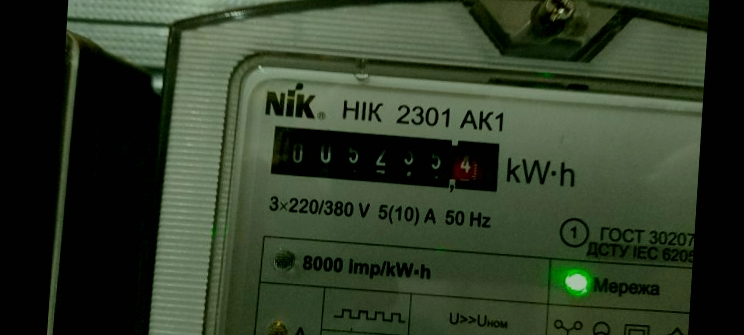0: (289, 138, 306, 165), (318, 138, 333, 164)
2: (373, 141, 388, 167)
3: (401, 141, 416, 166)
4: (457, 148, 474, 175)
5: (427, 143, 444, 171), (345, 139, 361, 166)
screen: (260, 116, 512, 200)
